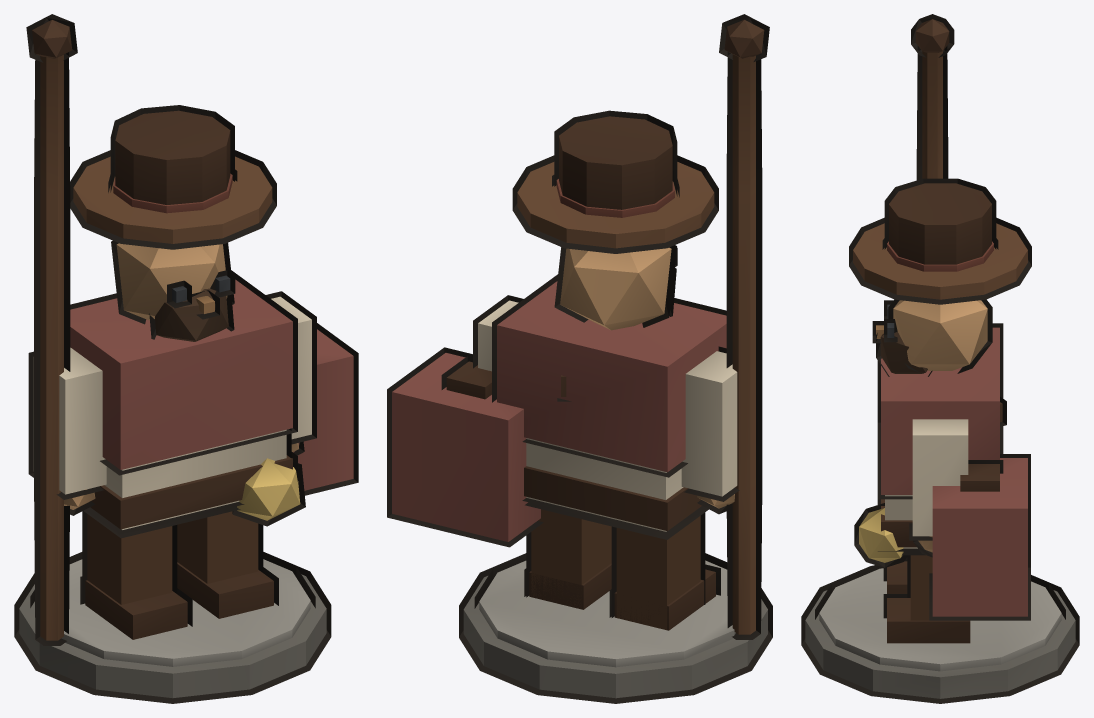
Rendered from pnj_marchand.glb.
The picture shows the model from 3 angles, left to right: view 1: azimuth 30°, elevation 25°; view 2: azimuth 150°, elevation 25°; view 3: azimuth 270°, elevation 25°; orthographic projection. The views are drawn at different scales.
Visible parts, largest first — view 1: pnj_marchand, pnj_marchand_outline; view 2: pnj_marchand, pnj_marchand_outline; view 3: pnj_marchand, pnj_marchand_outline.
Part boxes in pixels (left/top/right/bottom): pnj_marchand: left=19, top=20, right=353, bottom=698; pnj_marchand_outline: left=14, top=14, right=358, bottom=703; pnj_marchand: left=392, top=19, right=767, bottom=698; pnj_marchand_outline: left=387, top=14, right=772, bottom=703; pnj_marchand: left=805, top=19, right=1075, bottom=698; pnj_marchand_outline: left=801, top=14, right=1079, bottom=703.
Size of the model in its own units: 0.8353 by 1.6 by 0.7012.
